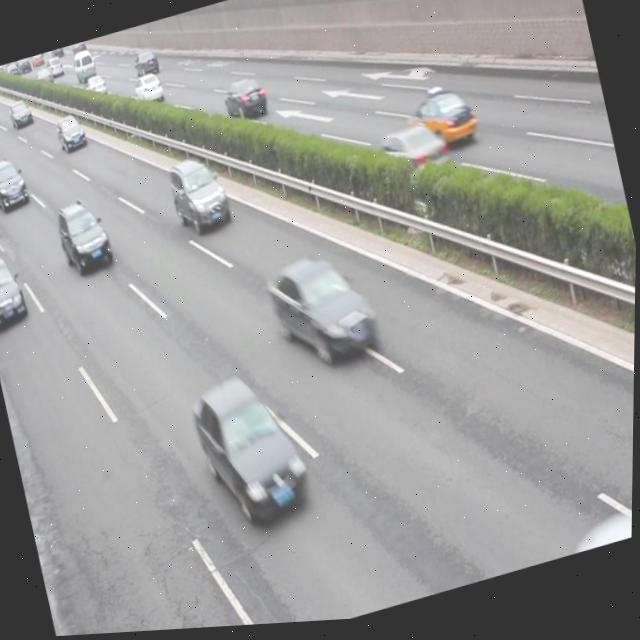car: (188, 366, 316, 541), (265, 244, 386, 386), (371, 120, 453, 201), (165, 151, 234, 241), (404, 88, 480, 164), (53, 194, 117, 280), (220, 75, 270, 129), (0, 250, 31, 330), (0, 153, 32, 214), (53, 111, 90, 157), (131, 72, 166, 111)
